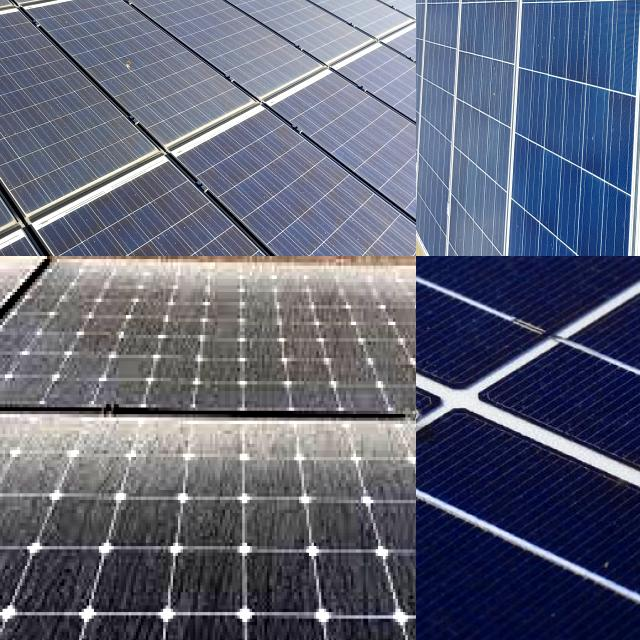bird: (416, 339, 551, 521)
dust: (250, 154, 389, 256), (224, 296, 358, 396), (97, 548, 222, 640), (0, 77, 63, 256), (247, 554, 378, 640), (91, 478, 252, 542), (19, 269, 91, 402), (117, 280, 190, 398), (294, 478, 416, 539), (109, 187, 214, 256), (78, 418, 260, 456), (0, 544, 70, 640), (0, 31, 44, 150), (268, 424, 411, 456), (0, 256, 35, 332), (0, 424, 66, 461), (385, 334, 416, 412), (373, 263, 416, 315)
